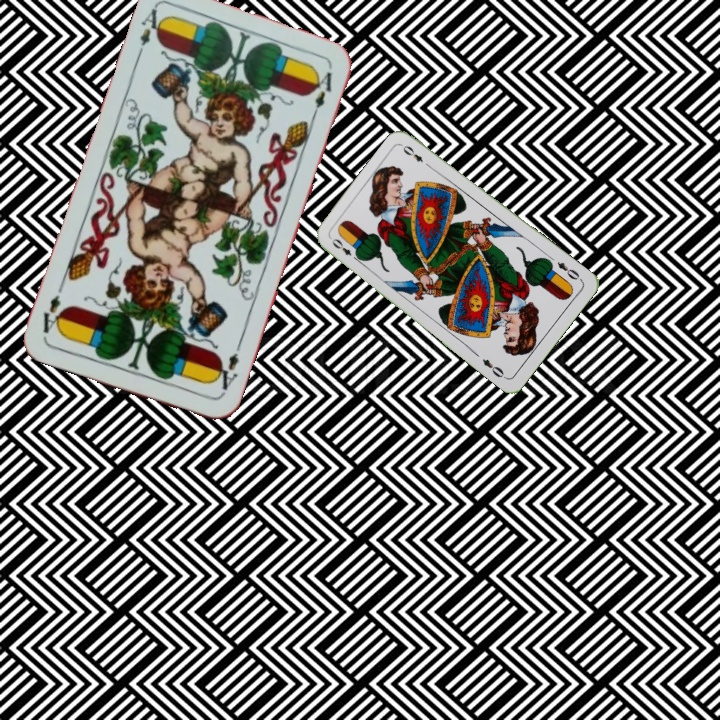EA: (132, 4, 168, 62), (209, 340, 244, 398)
EO: (328, 234, 362, 264), (553, 258, 585, 284)
